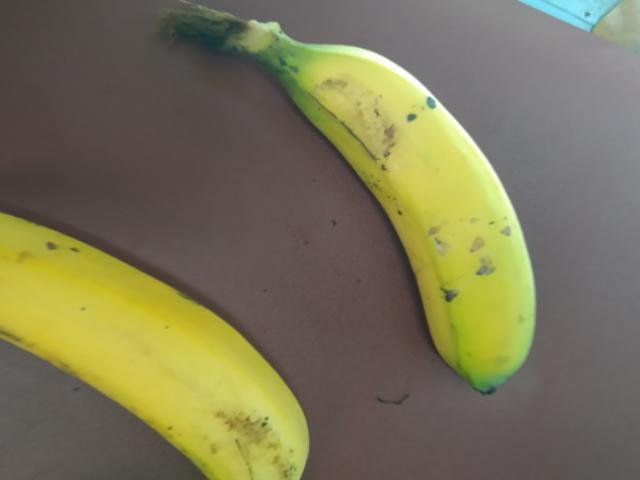freshripe: (5, 201, 335, 479)
ripe: (249, 22, 581, 416)
